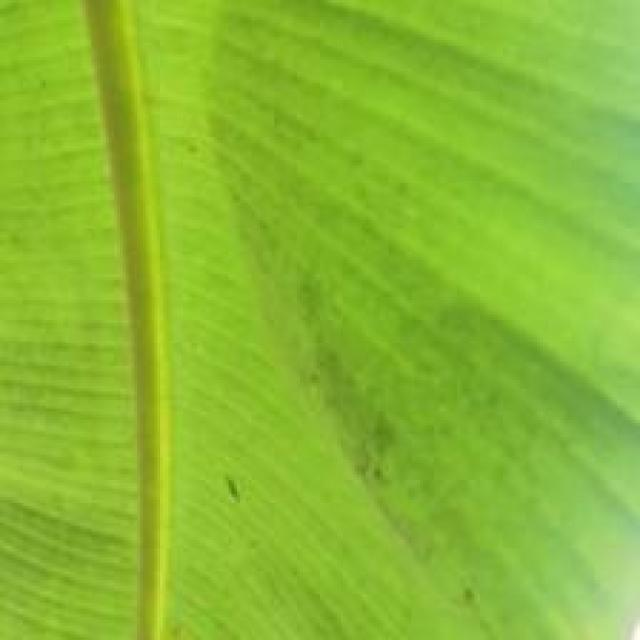Black_leaf_spot: (8, 2, 640, 634)
